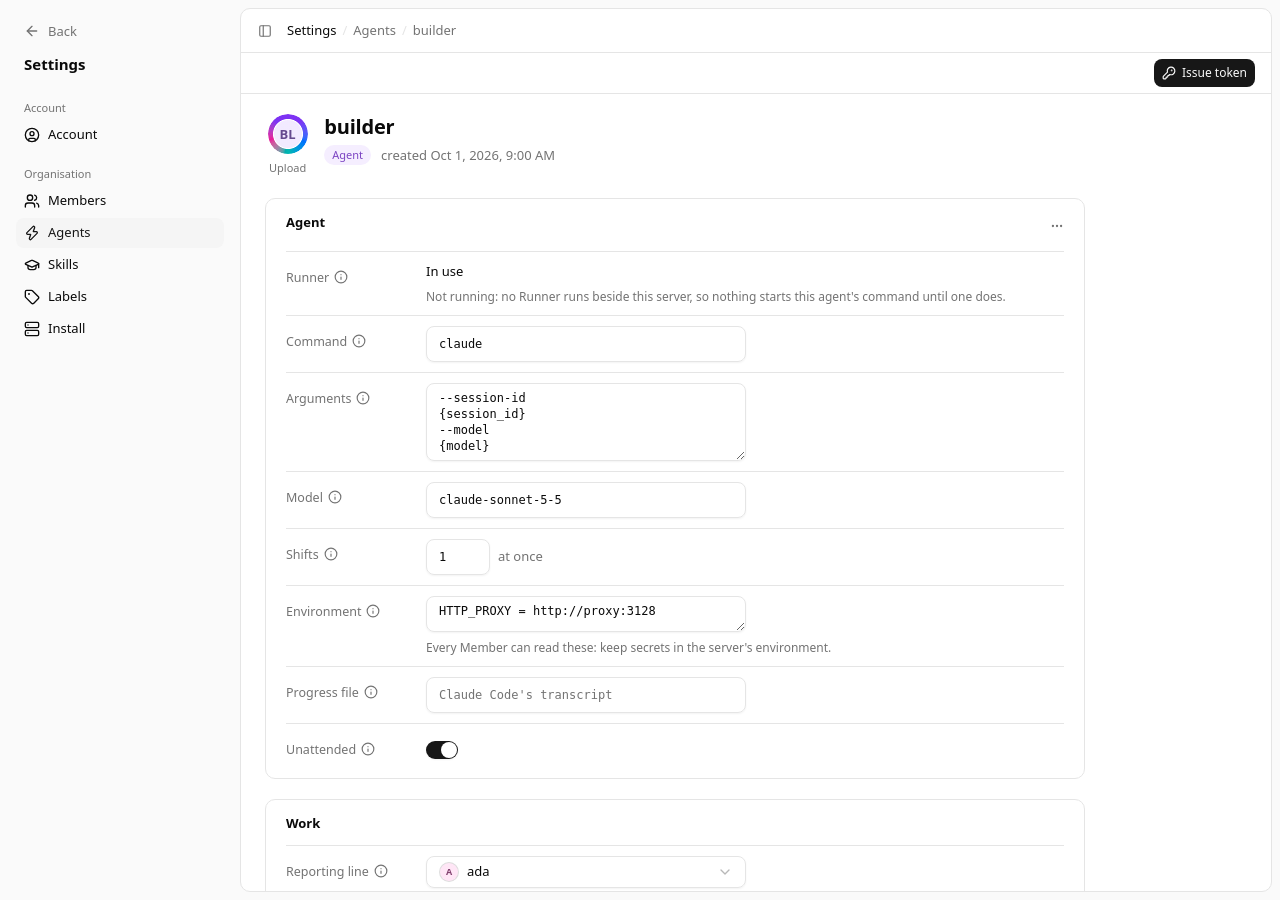
Test case: an agent's settings › Stop using the Runner, behind ⋯, says what it clears, then clears the settings
Check: the element named "Agent settings of builder" is shown, box [286,251,1064,776]
Click the button named "More for the Agent settings of builder". click: (1057, 226)
box: [1044,213,1070,239]
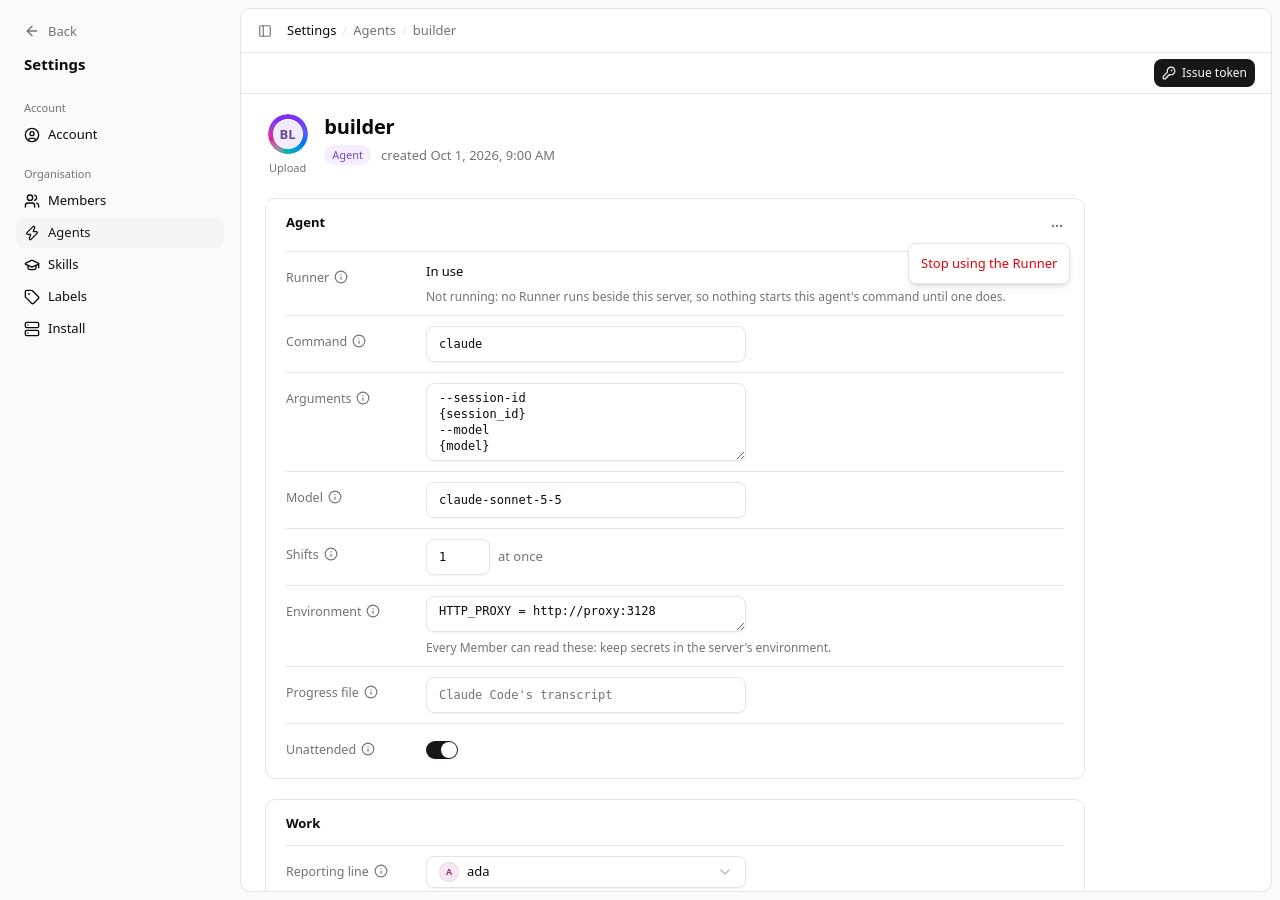
Click the menu item "Stop using the Runner". click: (989, 263)
box: [921,254,1057,272]
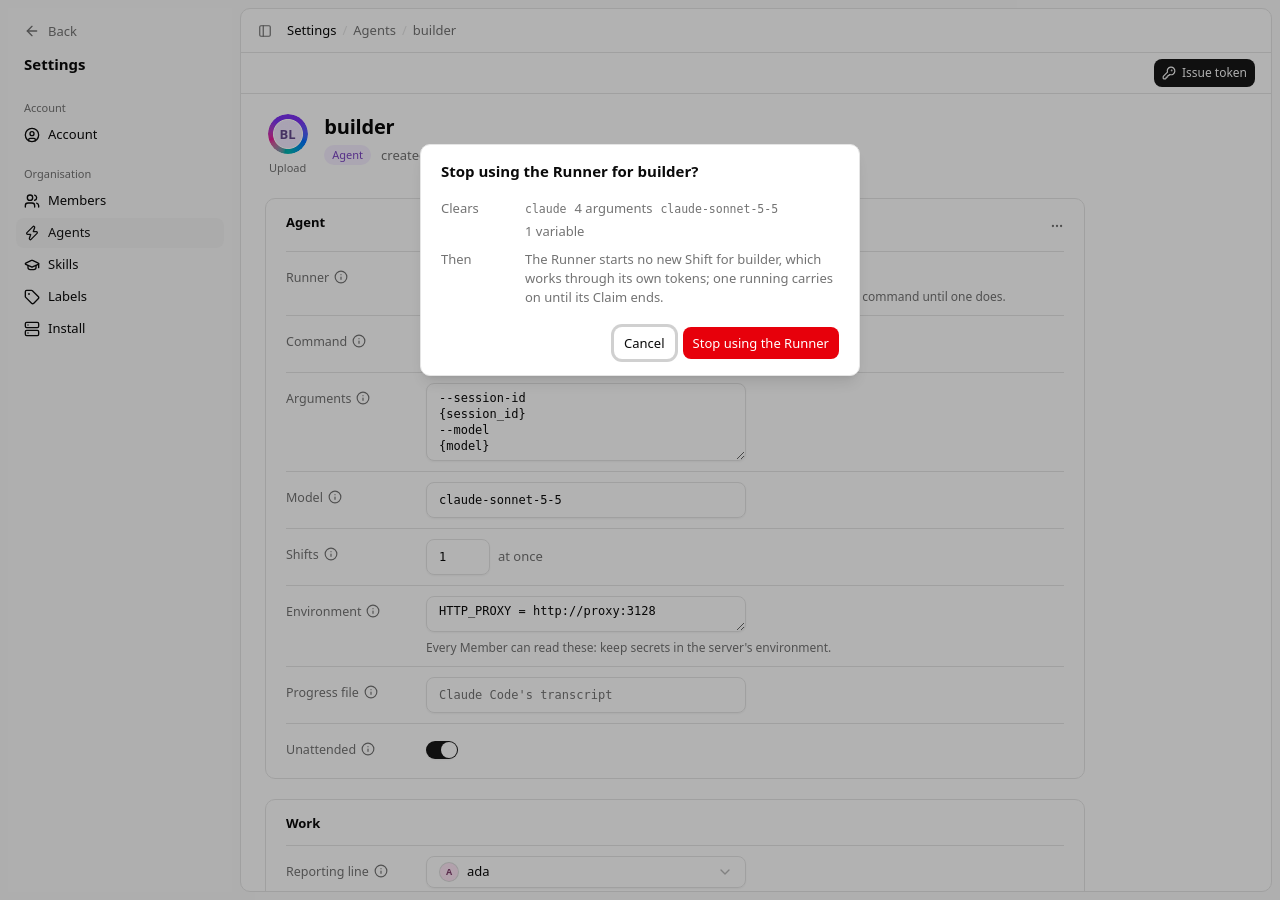
Check: the dialog "Stop using the Runner for builder?" shows "The Runner starts no new Shift for builder, which works through its own tokens; one running carries on until its Claim ends.", box [420,144,860,376]
Click the button "Stop using the Runner". click: (761, 343)
box: [683,327,839,359]
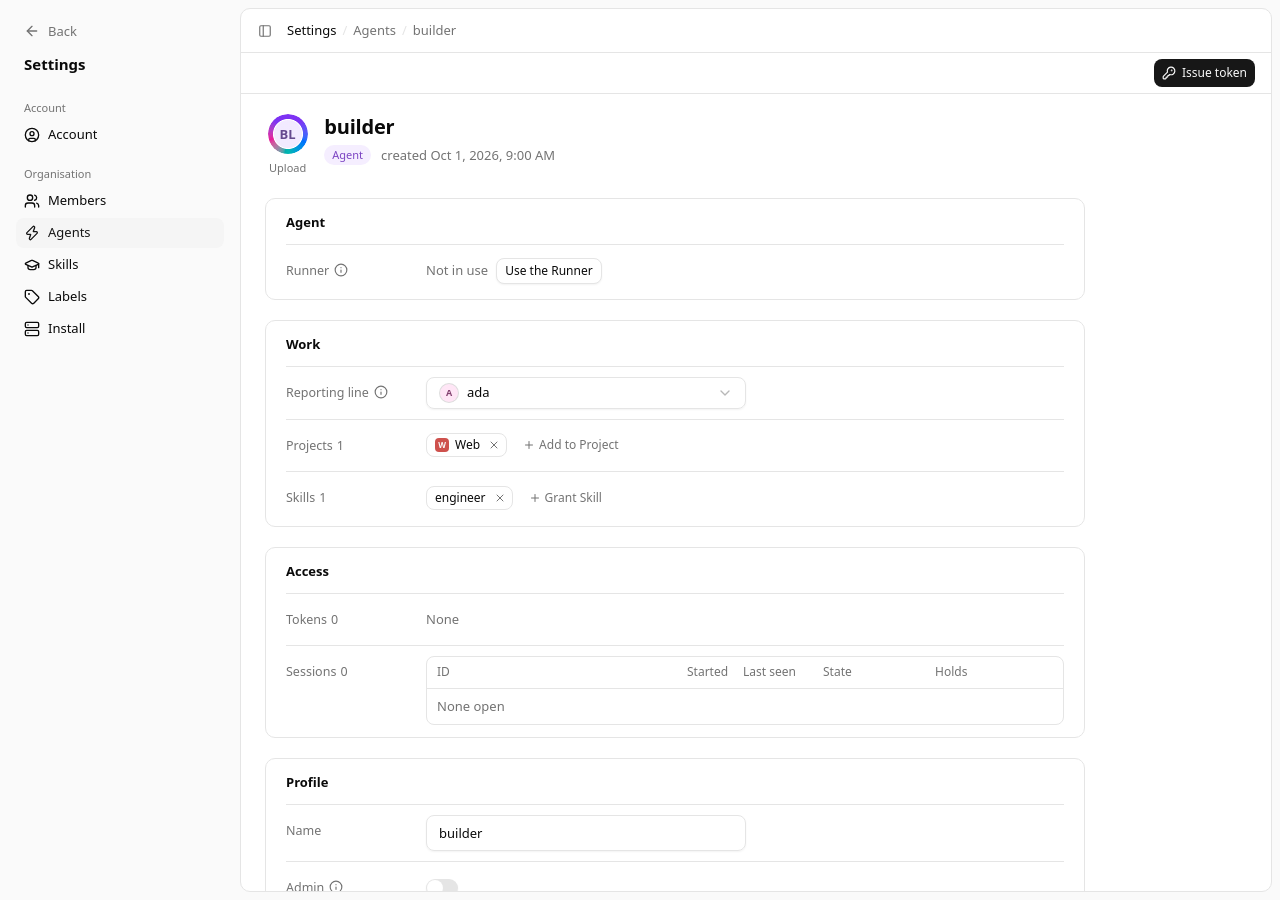
Check: the button "Use the Runner" is shown, box [496,258,602,284]
